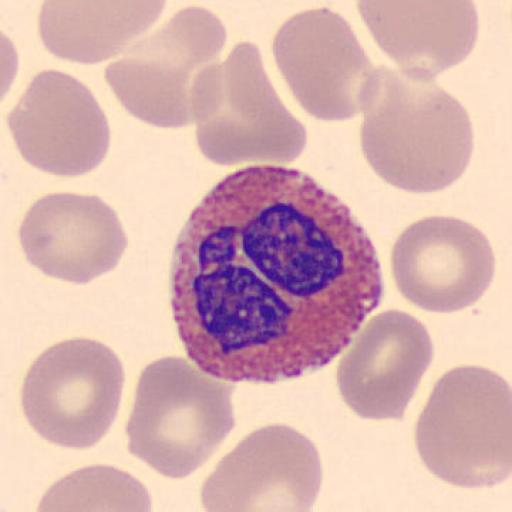RBC: (104, 3, 230, 128), (191, 39, 308, 168), (357, 69, 476, 195), (125, 353, 236, 481), (412, 362, 512, 492), (19, 334, 127, 452), (270, 5, 374, 125), (7, 66, 112, 179), (334, 306, 434, 422), (199, 421, 325, 512), (16, 189, 130, 286), (390, 214, 496, 316), (355, 0, 480, 73), (35, 0, 169, 66), (105, 56, 194, 130), (34, 462, 155, 512), (188, 62, 226, 124), (0, 3, 21, 109), (0, 27, 20, 106)
WBC: (167, 163, 383, 384)
